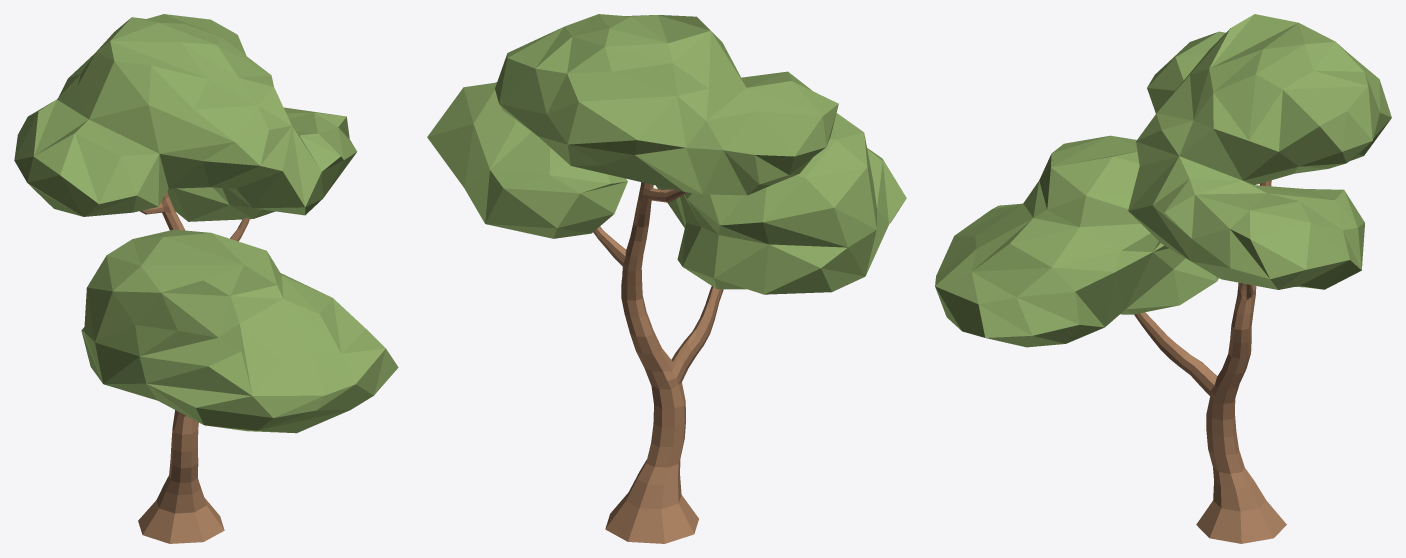
The model's file is Ntreefinal2.fbx.
3 renders of one model, left to right at view 1: azimuth 30°, elevation 25°; view 2: azimuth 150°, elevation 25°; view 3: azimuth 270°, elevation 25°, orthographic. The views are drawn at different scales.
Visible parts, largest first — view 1: pCylinder2; view 2: pCylinder2; view 3: pCylinder2.
Part boxes in pixels (x1=…): pCylinder2: x1=14, y1=14, x2=398, y2=543; pCylinder2: x1=427, y1=14, x2=906, y2=543; pCylinder2: x1=935, y1=14, x2=1391, y2=543.
Bounding box in the file's own units: 23.47 × 31.52 × 26.95.
